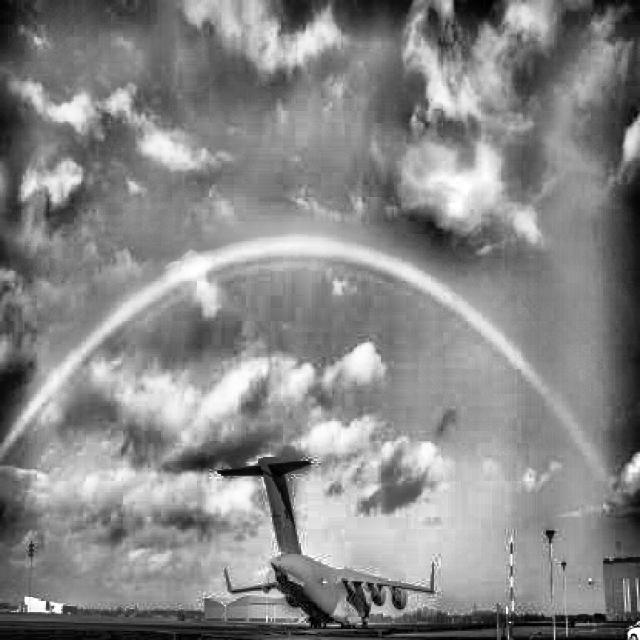C17: (217, 457, 435, 629)
